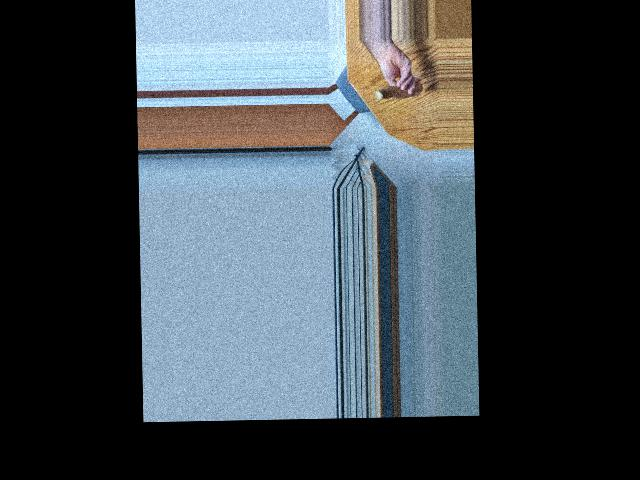sweet_potato: (373, 79, 422, 101)
